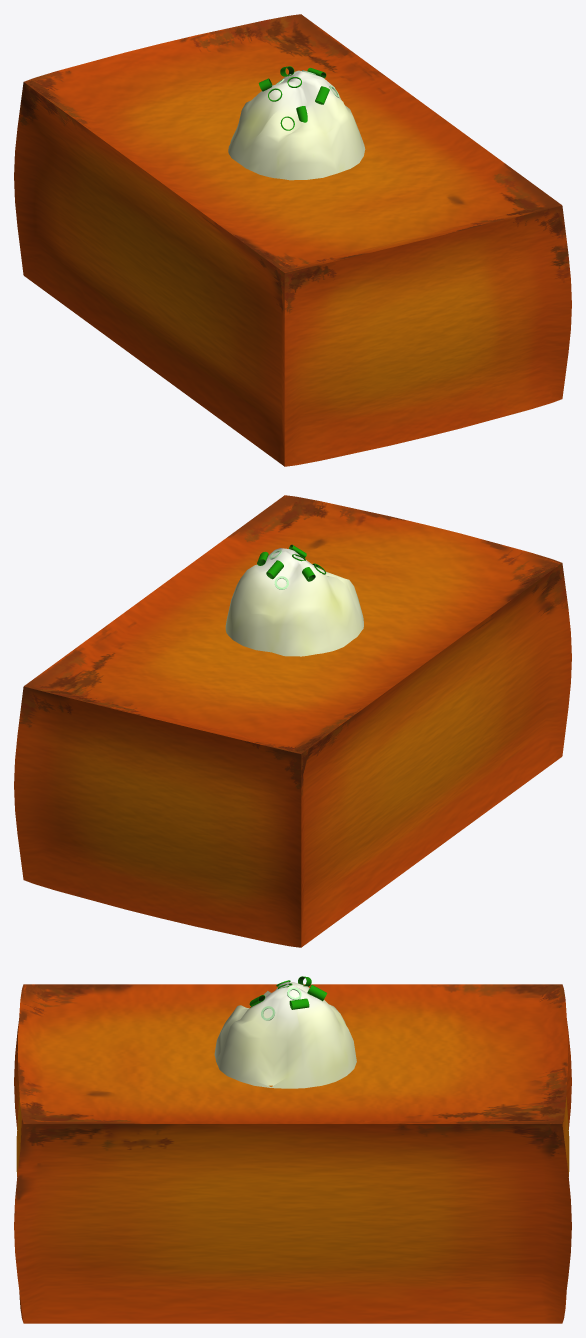
Rendered from AgeTofumode_1.fbx.
3 views of the same model, one above another, from view 1: azimuth 30°, elevation 25°; view 2: azimuth 150°, elevation 25°; view 3: azimuth 270°, elevation 25° (orthographic). The views are drawn at different scales.
Parts seen in each view (by area): view 1: pCube1, pCone1; view 2: pCube1, pCone1; view 3: pCube1, pCone1.
Part boxes in pixels (bbox=[...]): pCube1: bbox=[14, 14, 571, 466]; pCone1: bbox=[228, 70, 365, 180]; pCube1: bbox=[14, 495, 571, 947]; pCone1: bbox=[225, 548, 363, 656]; pCube1: bbox=[14, 984, 571, 1323]; pCone1: bbox=[214, 981, 356, 1088].
Size of the model in its own units: 30.8 by 27.27 by 50.21.
